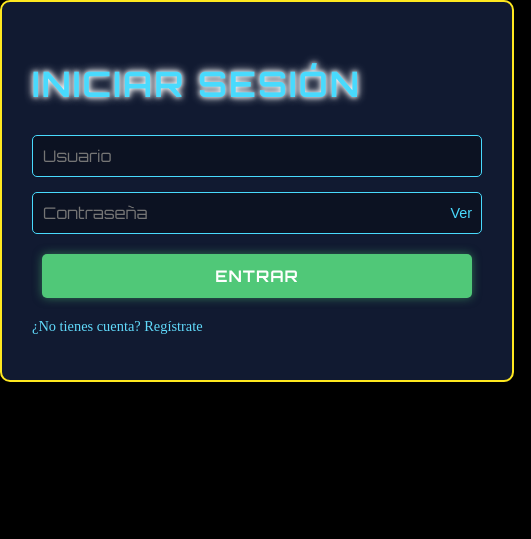
Scenario: Componente Auth › 3. Muestra error de validación de usuario en registro
Ir a registro
Click the text "¿No tienes cuenta? Regístrate".
click(117, 326)  # box [32,318,203,334]
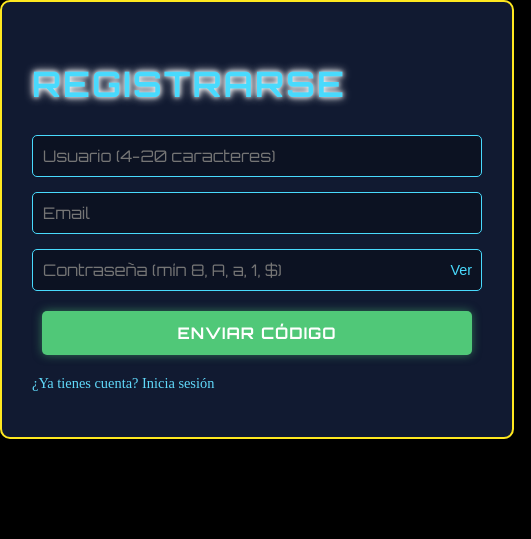
Type "123" into the field with placeholder "Usuario (4-20 caracteres)".
click(257, 156); type("123")  # box [32,135,482,177]
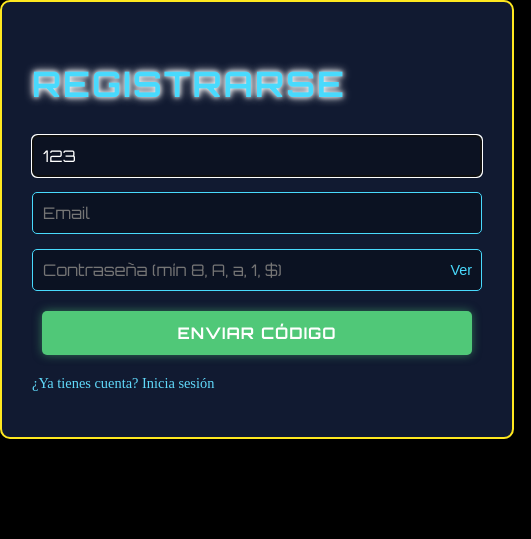
Type "test@test.com" into the field with placeholder "Email".
click(257, 213); type("test@test.com")  # box [32,192,482,234]
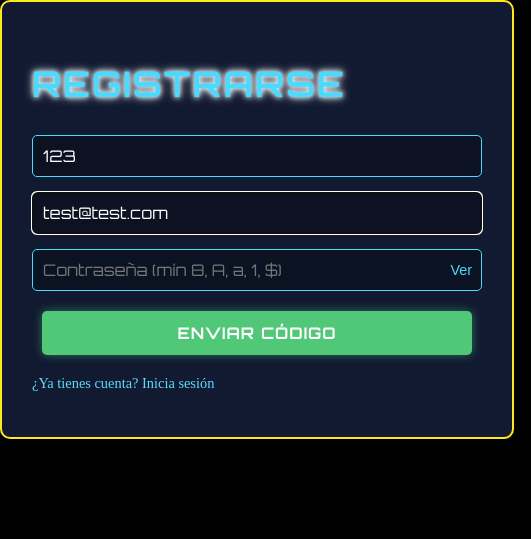
Type "ValidPass123!" into the password field with placeholder "Contraseña (mín 8, A, a, 1, $)".
click(257, 270); type("ValidPass123!")  # box [32,249,482,291]
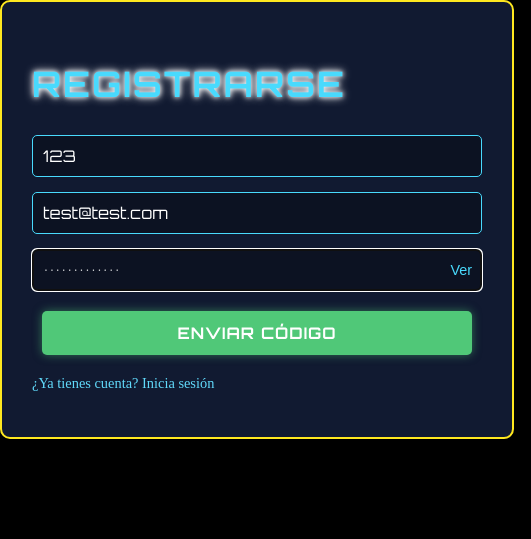
Click the button "Enviar Código".
click(257, 333)  # box [42,311,472,355]
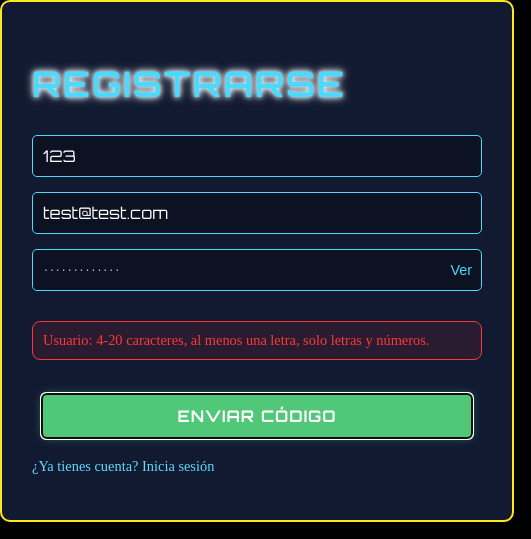
Expected: the text "Usuario: 4-20 caracteres" is shown, [43,332,429,348]
